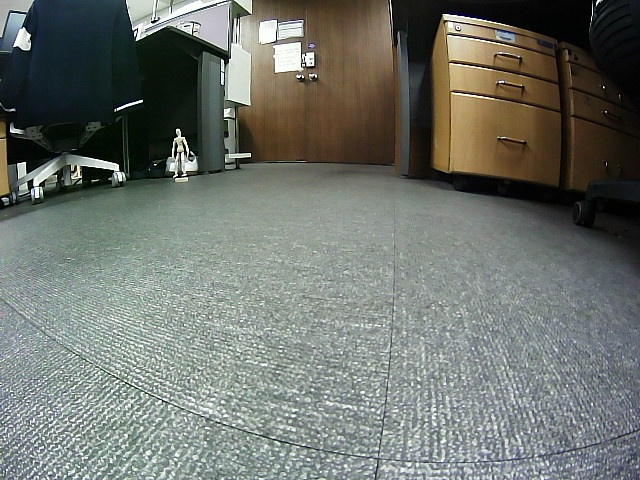person: (172, 127, 189, 177)
